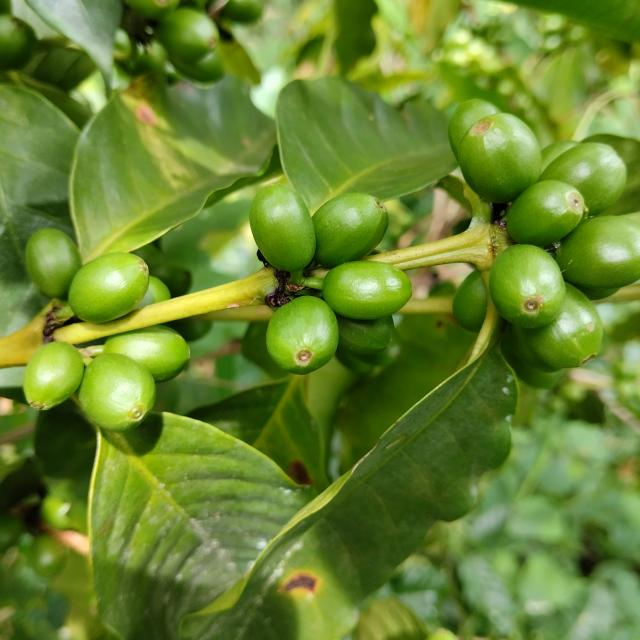green: (459, 112, 542, 203), (524, 283, 604, 369), (540, 142, 628, 216), (490, 244, 567, 328), (77, 353, 155, 433), (557, 216, 640, 288), (249, 182, 316, 271), (312, 192, 389, 267), (266, 296, 339, 375), (68, 252, 148, 323), (508, 179, 589, 246), (322, 260, 412, 320), (102, 325, 189, 382), (22, 342, 84, 410), (25, 228, 80, 298), (449, 98, 501, 158), (453, 270, 488, 333), (133, 275, 171, 310), (542, 140, 580, 173)
